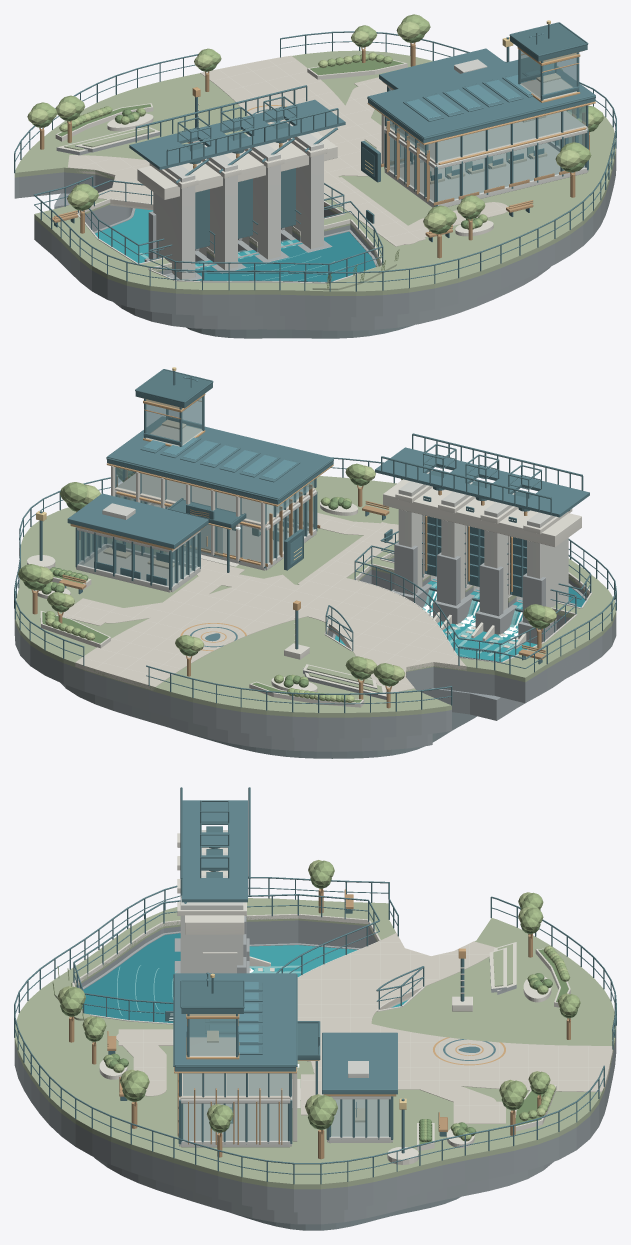
The model's file is flood-control-g.glb.
3 renders of one model, top to bottom at view 1: azimuth 30°, elevation 25°; view 2: azimuth 150°, elevation 25°; view 3: azimuth 270°, elevation 25°, orthographic. The views are drawn at different scales.
Visible parts, largest first — view 1: Terrain_Foundation_Components__green, Terrain_Foundation_Components__rock, Terrain_Foundation_Components__floor, Triple_Sluice_Mechanics_Components__concrete, Command_Centre_Components__steel_lite, Walkways_Railings_Components__steel, Command_Centre_Components__glass2, Command_Centre_Components__floor, Triple_Sluice_Mechanics_Components__steel_lite, Command_Centre_Components__steel, Triple_Sluice_Mechanics_Components__steel, Hydraulic_Water_Components__water_upper (+28 smaller); view 2: Terrain_Foundation_Components__green, Terrain_Foundation_Components__floor, Terrain_Foundation_Components__rock, Command_Centre_Components__steel_lite, Walkways_Railings_Components__steel, Command_Centre_Components__steel, Command_Centre_Components__glass2, Triple_Sluice_Mechanics_Components__concrete, Triple_Sluice_Mechanics_Components__steel_lite, Triple_Sluice_Mechanics_Components__concrete_shadow, Triple_Sluice_Mechanics_Components__concrete2, Command_Centre_Components__floor (+26 smaller); view 3: Terrain_Foundation_Components__green, Terrain_Foundation_Components__floor, Terrain_Foundation_Components__rock, Command_Centre_Components__steel_lite, Walkways_Railings_Components__steel, Command_Centre_Components__floor, Command_Centre_Components__glass, Riparian_Landscape_Components__leaf2, Triple_Sluice_Mechanics_Components__steel_lite, Command_Centre_Components__steel, Hydraulic_Water_Components__water_upper, Triple_Sluice_Mechanics_Components__concrete (+20 smaller).
Part boxes in pixels (bbox=[...]): Terrain_Foundation_Components__green: bbox=[14, 50, 616, 295]; Terrain_Foundation_Components__rock: bbox=[14, 150, 616, 330]; Terrain_Foundation_Components__floor: bbox=[67, 55, 507, 246]; Triple_Sluice_Mechanics_Components__concrete: bbox=[153, 124, 323, 279]; Command_Centre_Components__steel_lite: bbox=[368, 48, 595, 143]; Walkways_Railings_Components__steel: bbox=[14, 31, 616, 291]; Command_Centre_Components__glass2: bbox=[362, 106, 586, 201]; Command_Centre_Components__floor: bbox=[386, 111, 587, 201]; Triple_Sluice_Mechanics_Components__steel_lite: bbox=[129, 99, 345, 183]; Command_Centre_Components__steel: bbox=[367, 23, 595, 206]; Triple_Sluice_Mechanics_Components__steel: bbox=[135, 85, 338, 261]; Hydraulic_Water_Components__water_upper: bbox=[167, 231, 375, 281]; Terrain_Foundation_Components__green: bbox=[15, 476, 616, 717]; Terrain_Foundation_Components__floor: bbox=[62, 508, 466, 692]; Terrain_Foundation_Components__rock: bbox=[14, 557, 616, 751]; Command_Centre_Components__steel_lite: bbox=[67, 416, 333, 585]; Walkways_Railings_Components__steel: bbox=[14, 444, 616, 713]; Command_Centre_Components__steel: bbox=[75, 370, 333, 590]; Command_Centre_Components__glass2: bbox=[78, 467, 313, 586]; Triple_Sluice_Mechanics_Components__concrete: bbox=[398, 470, 568, 610]; Triple_Sluice_Mechanics_Components__steel_lite: bbox=[375, 447, 589, 597]; Triple_Sluice_Mechanics_Components__concrete_shadow: bbox=[392, 542, 575, 644]; Triple_Sluice_Mechanics_Components__concrete2: bbox=[383, 479, 581, 648]; Command_Centre_Components__floor: bbox=[83, 473, 314, 585]; Terrain_Foundation_Components__green: bbox=[14, 898, 616, 1189]; Terrain_Foundation_Components__floor: bbox=[116, 932, 612, 1123]; Terrain_Foundation_Components__rock: bbox=[14, 920, 616, 1224]; Command_Centre_Components__steel_lite: bbox=[174, 973, 397, 1094]; Walkways_Railings_Components__steel: bbox=[14, 800, 616, 1184]; Command_Centre_Components__floor: bbox=[180, 1073, 388, 1140]; Command_Centre_Components__glass: bbox=[183, 1073, 388, 1140]; Riparian_Landscape_Components__leaf2: bbox=[53, 860, 580, 1141]; Triple_Sluice_Mechanics_Components__steel_lite: bbox=[181, 800, 247, 903]; Command_Centre_Components__steel: bbox=[173, 974, 393, 1144]; Hydraulic_Water_Components__water_upper: bbox=[82, 933, 180, 1022]; Triple_Sluice_Mechanics_Components__concrete: bbox=[180, 830, 243, 973].
Bounding box in the file's own units: 38.89 × 16.72 × 34.55.
